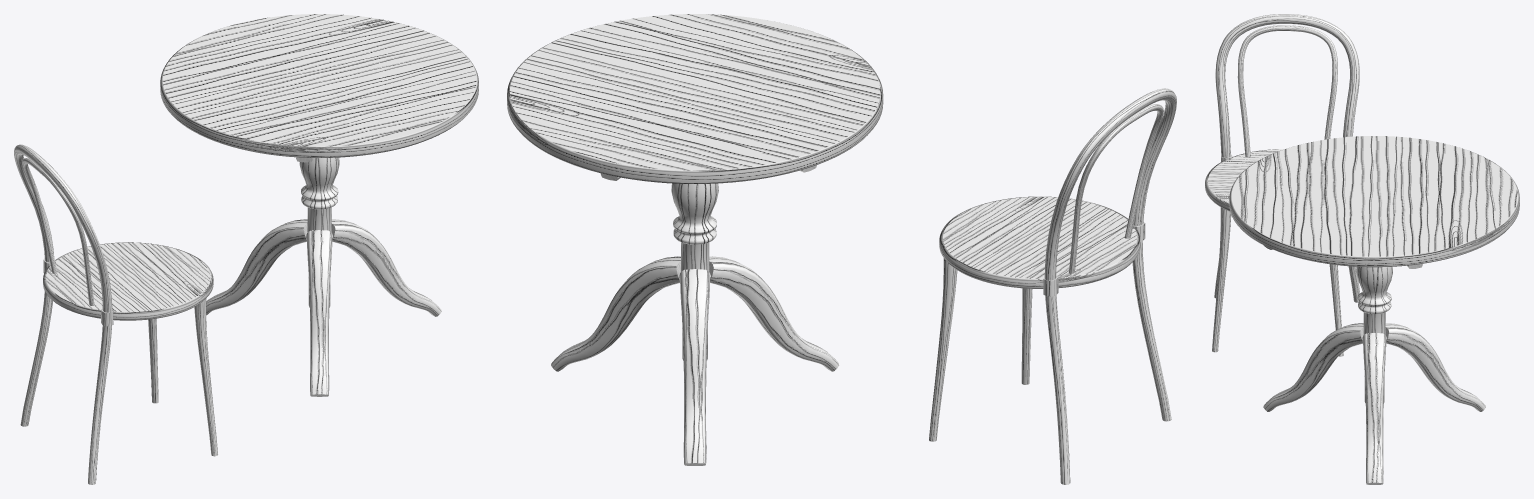
Rendered from chair-table.meshopt.glb.
3 renders of one model, left to right at view 1: azimuth 30°, elevation 25°; view 2: azimuth 150°, elevation 25°; view 3: azimuth 270°, elevation 25°, orthographic. The views are drawn at different scales.
Parts seen in each view (by area): view 1: Tabletop, Chair_seat, Continuous_rear_legs_and_outer_backrest, Table_foot_3, Table_foot_1, Table_foot_2, Turned_pedestal, Inner_backrest_bow, Chair_front_leg_1, Chair_front_leg_2; view 2: Tabletop, Chair_seat, Continuous_rear_legs_and_outer_backrest, Table_foot_2, Table_foot_1, Table_foot_3, Turned_pedestal, Inner_backrest_bow, Chair_front_leg_2, Chair_front_leg_1; view 3: Tabletop, Continuous_rear_legs_and_outer_backrest, Table_foot_1, Table_foot_2, Table_foot_3, Turned_pedestal, Inner_backrest_bow, Chair_seat, Chair_front_leg_1, Chair_front_leg_2.
Part boxes in pixels (box(x1,y1,x2,y2)): Tabletop: box(160, 14, 478, 157); Chair_seat: box(43, 242, 213, 320); Continuous_rear_legs_and_outer_backrest: box(14, 144, 112, 484); Table_foot_3: box(307, 230, 332, 396); Table_foot_1: box(331, 219, 441, 316); Table_foot_2: box(206, 219, 307, 315); Turned_pedestal: box(299, 157, 339, 307); Inner_backrest_bow: box(22, 158, 94, 305); Chair_front_leg_1: box(194, 299, 217, 456); Chair_front_leg_2: box(148, 318, 158, 403); Tabletop: box(507, 14, 883, 183); Chair_seat: box(939, 196, 1140, 288); Continuous_rear_legs_and_outer_backrest: box(1044, 88, 1176, 484); Table_foot_2: box(680, 269, 710, 465); Table_foot_1: box(551, 256, 680, 371); Table_foot_3: box(709, 256, 839, 371); Turned_pedestal: box(671, 183, 718, 360); Inner_backrest_bow: box(1068, 104, 1163, 273); Chair_front_leg_2: box(929, 258, 957, 441); Chair_front_leg_1: box(1021, 288, 1032, 384); Tabletop: box(1229, 136, 1519, 267); Continuous_rear_legs_and_outer_backrest: box(1214, 14, 1359, 302); Table_foot_1: box(1363, 333, 1386, 484); Table_foot_2: box(1385, 323, 1485, 411); Table_foot_3: box(1263, 323, 1363, 411); Turned_pedestal: box(1356, 266, 1392, 403); Inner_backrest_bow: box(1237, 25, 1337, 157); Chair_seat: box(1205, 149, 1283, 211); Chair_front_leg_1: box(1212, 207, 1231, 352); Chair_front_leg_2: box(1329, 264, 1343, 356).
Size of the model in its own units: 1.4 by 0.8614 by 0.891.
1 material, 1 textured.
